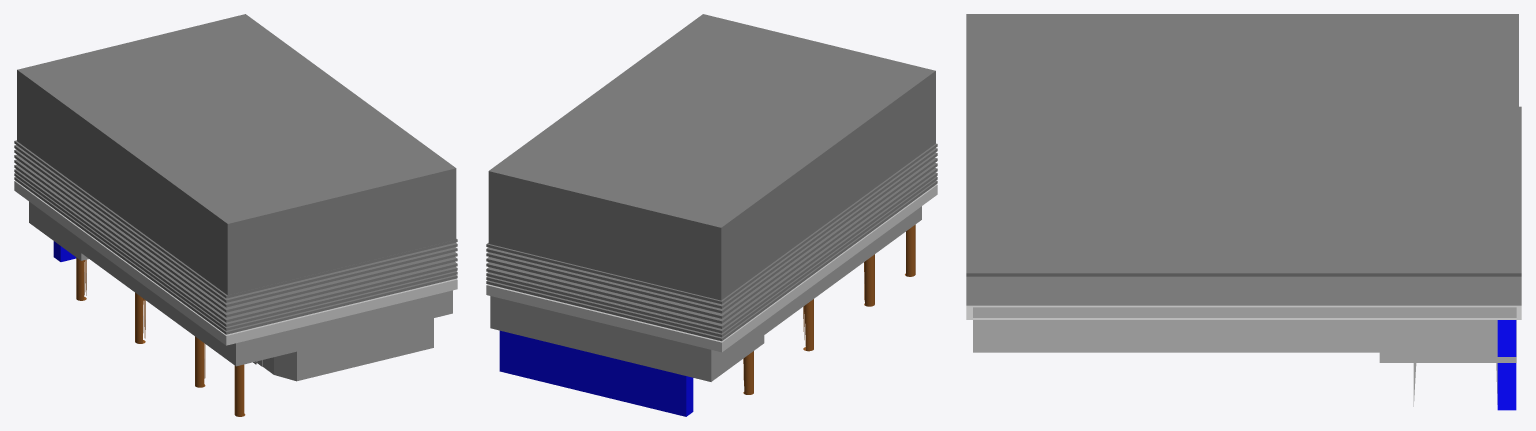
Rendered from edificio 4.fbx.
3 renders of one model, left to right at view 1: azimuth 30°, elevation 25°; view 2: azimuth 150°, elevation 25°; view 3: azimuth 270°, elevation 25°, orthographic. The views are drawn at different scales.
Visible parts, largest first — view 1: SegundaOarte, Primera Parte, ParteSuperior, Esquina, Columnas2, Entrada a Pecos, Columnas; view 2: SegundaOarte, Primera Parte, Entrada a Pecos, ParteSuperior, Columnas2, Columnas; view 3: Primera Parte, SegundaOarte, ParteSuperior, Entrada a Pecos.
Boxes of the visible parts, x1,y1,x2,y2 form: SegundaOarte: (17,14,456,298); Primera Parte: (14,140,457,345); ParteSuperior: (81,239,452,366); Esquina: (263,318,433,381); Columnas2: (135,292,245,416); Entrada a Pecos: (29,201,88,261); Columnas: (76,257,86,300); SegundaOarte: (488,14,935,300); Primera Parte: (486,143,937,352); Entrada a Pecos: (490,296,764,416); ParteSuperior: (764,206,921,334); Columnas2: (803,224,915,351); Columnas: (743,351,753,394); Primera Parte: (966,106,1521,319); SegundaOarte: (966,14,1518,160); ParteSuperior: (973,307,1379,352); Entrada a Pecos: (1379,307,1516,410).
Size of the model in its own units: 2508 by 2072 by 3976.
